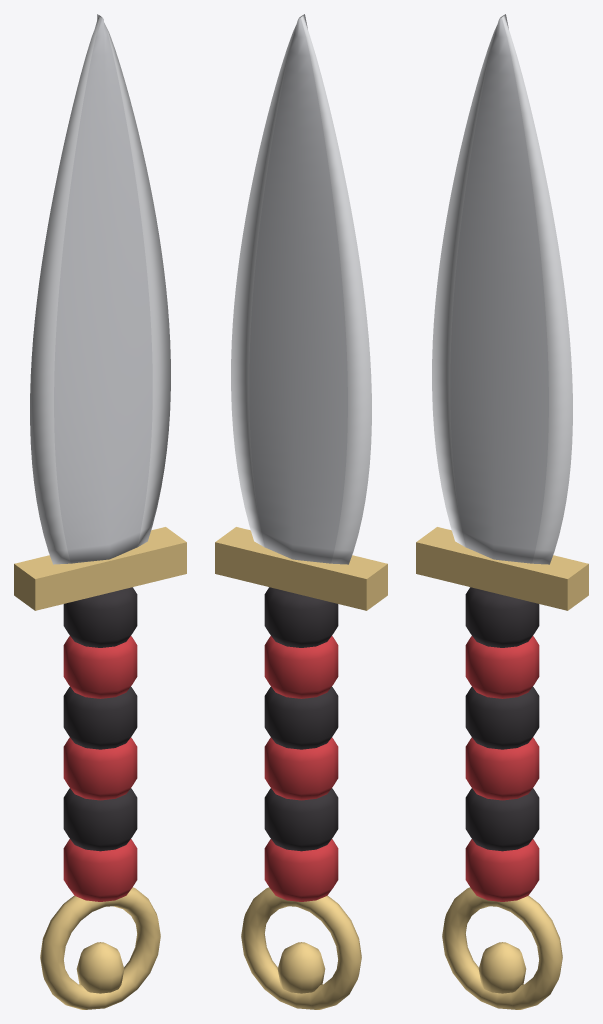
Rendered from throwing_knife.glb.
3 renders of one model, left to right at view 1: azimuth 30°, elevation 25°; view 2: azimuth 150°, elevation 25°; view 3: azimuth 330°, elevation 25°, orthographic.
Visible parts, largest first — view 1: throwing_knife; view 2: throwing_knife; view 3: throwing_knife.
Boxes of the visible parts, <box> form: throwing_knife: <box>14,14,186,1009</box>; throwing_knife: <box>215,14,387,1009</box>; throwing_knife: <box>416,14,588,1009</box>.
Bounding box in the file's own units: 0.05 × 0.3125 × 0.021.
